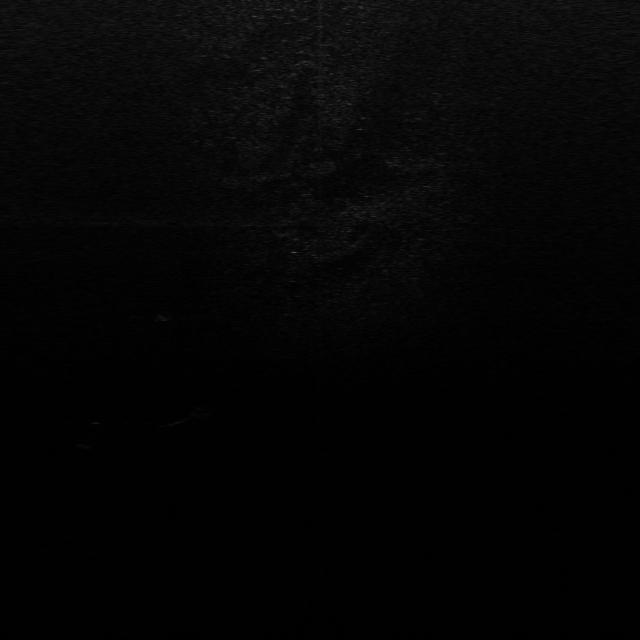ball: (180, 401, 216, 427)
circle cage: (150, 306, 182, 324)
tyre: (69, 421, 107, 452)
